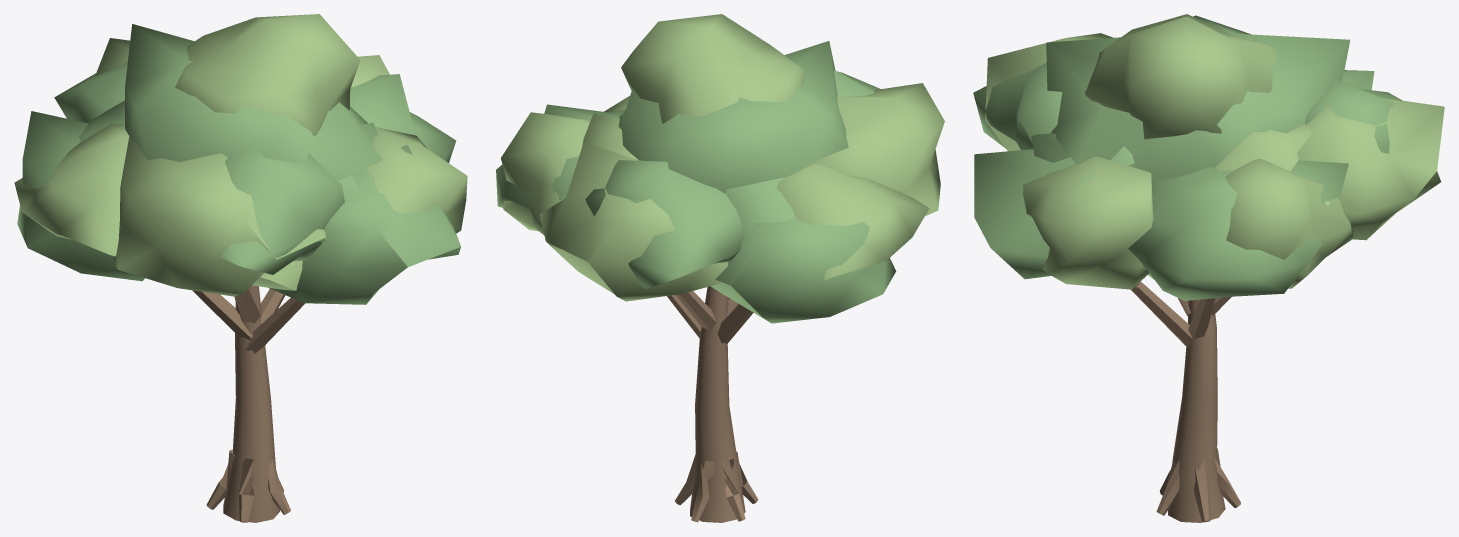
Rendered from Tree_PlaneTree.fbx.
3 views of the same model, side by side, from view 1: azimuth 30°, elevation 25°; view 2: azimuth 150°, elevation 25°; view 3: azimuth 270°, elevation 25° (orthographic). The views are drawn at different scales.
Visible parts, largest first — view 1: Tree_PlaneTree; view 2: Tree_PlaneTree; view 3: Tree_PlaneTree.
Part boxes in pixels (<box>): Tree_PlaneTree: <box>14,14,467,522</box>; Tree_PlaneTree: <box>496,14,944,522</box>; Tree_PlaneTree: <box>973,14,1444,522</box>.
Size of the model in its own units: 5.39 by 6.3 by 5.38.
